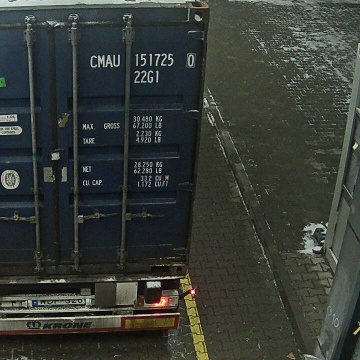serial_id: (90, 53, 194, 67)
